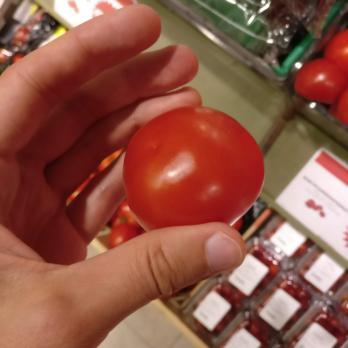Tomato: (122, 106, 266, 236)
